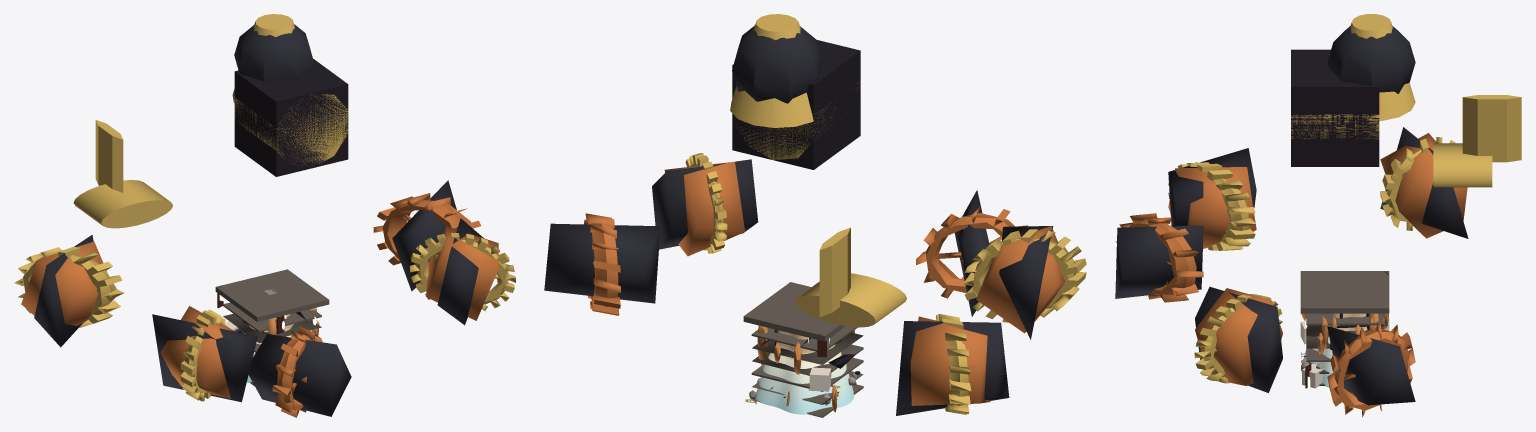
Rendered from ile-horloge-v4-leger.glb.
3 renders of one model, left to right at view 1: azimuth 30°, elevation 25°; view 2: azimuth 150°, elevation 25°; view 3: azimuth 270°, elevation 25°, orthographic. The views are drawn at different scales.
Visible parts, largest first — view 1: horloge_heures, horloge_roue0, horloge_roue4, horloge_roue2, horloge_roue1, horloge_decor, horloge_balancier, horloge_roue3, horloge_cloche; view 2: horloge_roue4, horloge_roue3, horloge_roue0, horloge_roue2, horloge_cloche, horloge_heures, horloge_decor, horloge_balancier, horloge_roue1, horloge_terrain; view 3: horloge_heures, horloge_roue2, horloge_roue0, horloge_roue1, horloge_decor, horloge_roue3, horloge_roue4, horloge_balancier, horloge_cloche, horloge_terrain.
Part boxes in pixels (bbox=[...]): horloge_heures: bbox=[234, 58, 348, 176]; horloge_roue0: bbox=[152, 306, 257, 402]; horloge_roue4: bbox=[14, 235, 124, 347]; horloge_roue2: bbox=[409, 218, 515, 325]; horloge_roue1: bbox=[248, 326, 351, 417]; horloge_decor: bbox=[215, 269, 329, 386]; horloge_balancier: bbox=[73, 120, 172, 228]; horloge_roue3: bbox=[373, 180, 484, 291]; horloge_cloche: bbox=[232, 14, 314, 102]; horloge_roue4: bbox=[896, 314, 1009, 415]; horloge_roue3: bbox=[544, 213, 660, 315]; horloge_roue0: bbox=[963, 226, 1086, 339]; horloge_roue2: bbox=[652, 153, 758, 256]; horloge_cloche: bbox=[730, 14, 822, 127]; horloge_heures: bbox=[732, 40, 860, 169]; horloge_decor: bbox=[743, 282, 863, 417]; horloge_balancier: bbox=[794, 227, 906, 327]; horloge_roue1: bbox=[916, 190, 1027, 316]; horloge_terrain: bbox=[755, 330, 854, 414]; horloge_heures: bbox=[1291, 49, 1379, 166]; horloge_roue2: bbox=[1194, 287, 1282, 392]; horloge_roue0: bbox=[1168, 148, 1256, 250]; horloge_roue1: bbox=[1115, 213, 1203, 302]; horloge_decor: bbox=[1300, 271, 1389, 388]; horloge_roue3: bbox=[1327, 321, 1415, 417]; horloge_roue4: bbox=[1380, 127, 1468, 238]; horloge_balancier: bbox=[1433, 95, 1521, 187]; horloge_cloche: bbox=[1327, 14, 1415, 120]; horloge_terrain: bbox=[1301, 313, 1367, 387].
Size of the model in its own units: 11.3 by 8.87 by 9.2.
